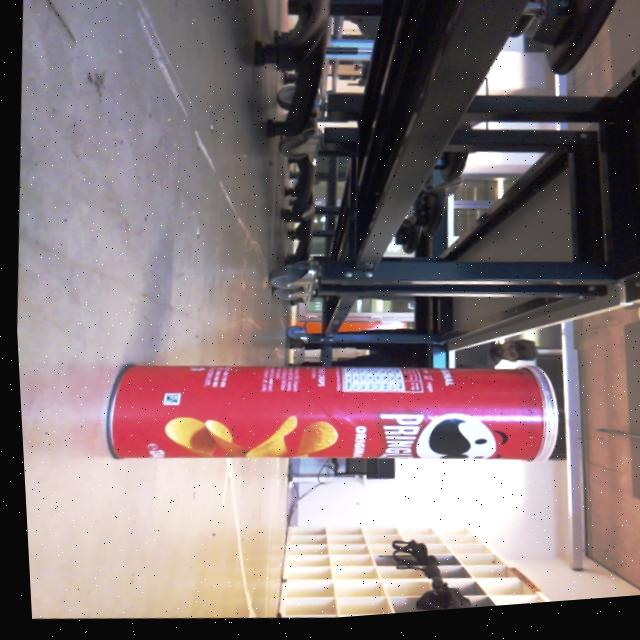redpringles: (75, 309, 574, 520)
